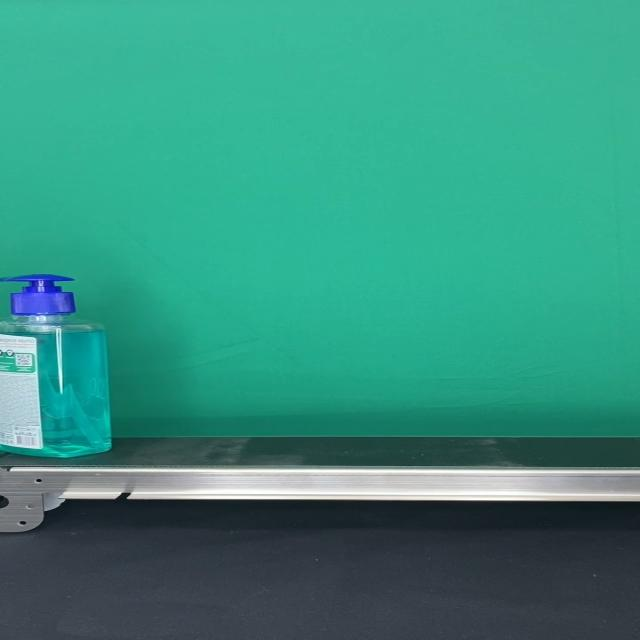Bottle: (0, 273, 113, 457)
Cap: (0, 272, 77, 314)
